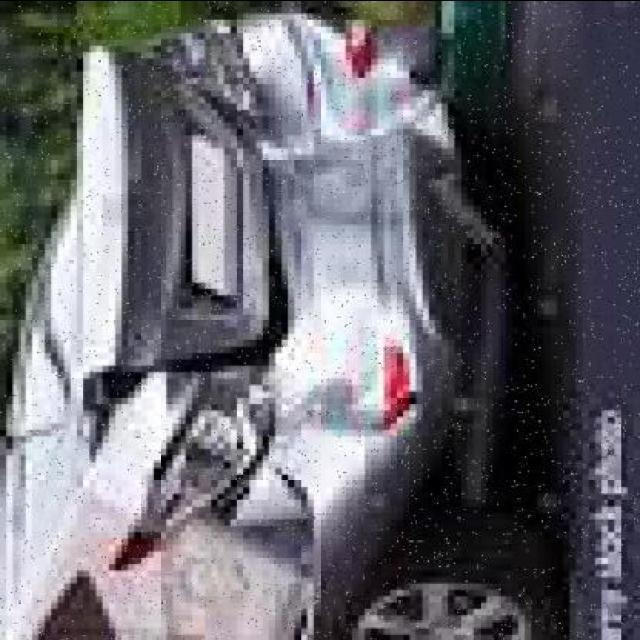rear-bumper-dent: (243, 6, 473, 589)
